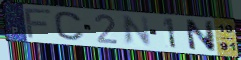1: (161, 17, 178, 51)
2: (94, 13, 120, 45)
C: (53, 10, 87, 42)
F: (23, 7, 54, 40)
N: (183, 18, 218, 54), (121, 14, 153, 47)
